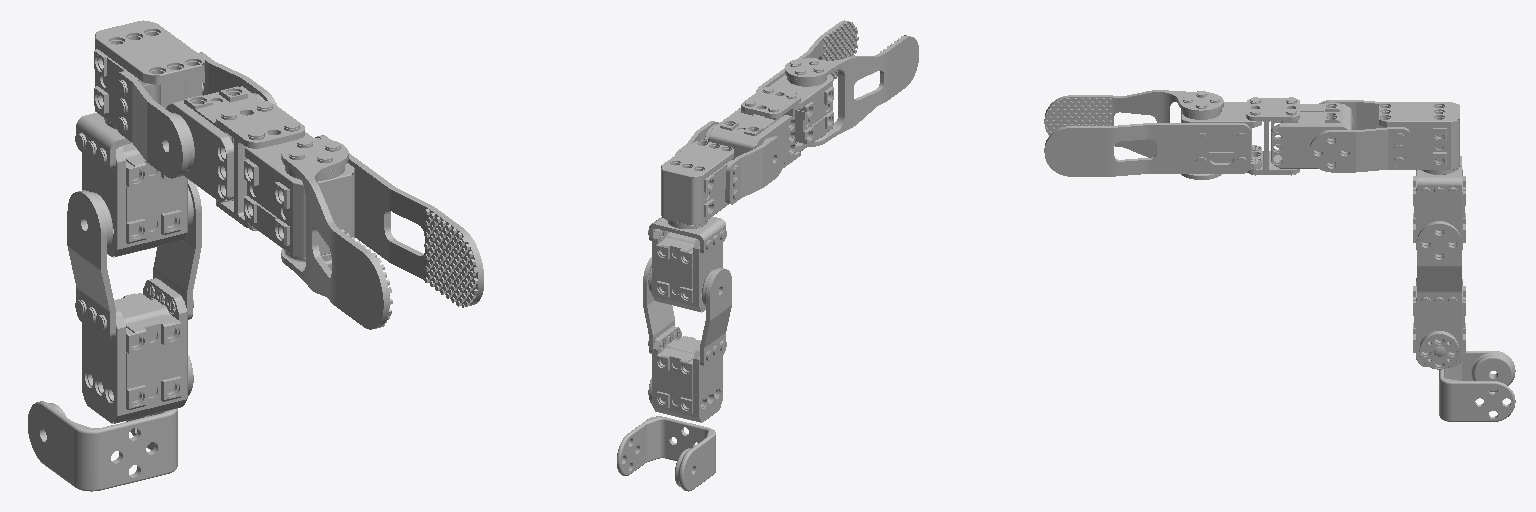
robot.urdf — poppy_ergo_jr:
<?xml version="1.0" ?>
<!-- =================================================================================== -->
<!-- |    This document was autogenerated by xacro from poppy_ergo_jr.urdf.xacro       | -->
<!-- |    EDITING THIS FILE BY HAND IS NOT RECOMMENDED                                 | -->
<!-- =================================================================================== -->
<robot name="poppy_ergo_jr">
  <link name="base_link">
    <visual>
      <origin rpy="0 0 0" xyz="0 0 0"/>
      <geometry>
        <mesh filename="meshes/base.stl"/>
      </geometry>
      <material name="">
        <color rgba="0.752941176470588 0.752941176470588 0.752941176470588 1"/>
      </material>
    </visual>
    <collision>
      <origin rpy="0 0 0" xyz="0 0.038 0.015"/>
      <geometry>
        <cylinder length="0.03" radius="0.08"/>
      </geometry>
    </collision>
  </link>
  <link name="long_U">
    <visual>
      <origin rpy="0 0 0" xyz="0 0 0"/>
      <geometry>
        <mesh filename="meshes/long_U.stl"/>
      </geometry>
      <material name="">
        <color rgba="0.752941176470588 0.752941176470588 0.752941176470588 1"/>
      </material>
    </visual>
    <collision>
      <origin rpy="0 0 0" xyz="0 0 0.01"/>
      <geometry>
        <cylinder length="0.02" radius="0.02"/>
      </geometry>
    </collision>
    <inertial>
      <mass value="10"/>
      <inertia ixx="0.03" ixy="0.0" ixz="0.0" iyy="0.03" iyz="0.0" izz="0.03"/>
    </inertial>
  </link>
  <joint name="m1" type="continuous">
    <origin rpy="0 0 0" xyz="0 0 0.0327993216120967"/>
    <parent link="base_link"/>
    <child link="long_U"/>
    <axis xyz="0 0 1"/>
  </joint>
  <link name="section_1">
    <visual>
      <origin rpy="0 1.5707963267949 0" xyz="0 0 0"/>
      <geometry>
        <mesh filename="meshes/section_1.stl"/>
      </geometry>
      <material name="">
        <color rgba="0.752941176470588 0.752941176470588 0.752941176470588 1"/>
      </material>
    </visual>
    <collision>
      <origin rpy="0 1.5707963267949 0" xyz="0.025 0 0"/>
      <geometry>
        <cylinder length="0.05" radius="0.02"/>
      </geometry>
    </collision>
    <inertial>
      <mass value="0.1"/>
      <inertia ixx="0.03" ixy="0.0" ixz="0.0" iyy="0.03" iyz="0.0" izz="0.03"/>
    </inertial>
  </link>
  <joint name="m2" type="continuous">
    <origin rpy="0 -1.5707963267949 0" xyz="0 0 0.0240006783879033"/>
    <parent link="long_U"/>
    <child link="section_1"/>
    <axis xyz="0 0 -1"/>
  </joint>
  <link name="section_2">
    <visual>
      <origin rpy="0 1.5707963267949 0" xyz="0 0 0"/>
      <geometry>
        <mesh filename="meshes/section_2.stl"/>
      </geometry>
      <material name="">
        <color rgba="0.752941176470588 0.752941176470588 0.752941176470588 1"/>
      </material>
    </visual>
    <collision>
      <origin rpy="0 1.5707963267949 0" xyz="0.025 0 0"/>
      <geometry>
        <cylinder length="0.05" radius="0.02"/>
      </geometry>
    </collision>
    <inertial>
      <mass value="0.1"/>
      <inertia ixx="0.03" ixy="0.0" ixz="0.0" iyy="0.03" iyz="0.0" izz="0.03"/>
    </inertial>
  </link>
  <joint name="m3" type="continuous">
    <origin rpy="0 0 0" xyz="0.054 0 0"/>
    <parent link="section_1"/>
    <child link="section_2"/>
    <axis xyz="0 0 -1"/>
  </joint>
  <link name="section_3">
    <visual>
      <origin rpy="0 3.14159268 0" xyz="0 0 0"/>
      <geometry>
        <mesh filename="meshes/section_3.stl"/>
      </geometry>
      <material name="">
        <color rgba="0.752941176470588 0.752941176470588 0.752941176470588 1"/>
      </material>
    </visual>
    <collision>
      <origin rpy="1.5707963267949 0 0" xyz="0 -0.025 0"/>
      <geometry>
        <cylinder length="0.05" radius="0.02"/>
      </geometry>
    </collision>
    <inertial>
      <mass value="0.1"/>
      <inertia ixx="0.03" ixy="0.0" ixz="0.0" iyy="0.03" iyz="0.0" izz="0.03"/>
    </inertial>
  </link>
  <joint name="m4" type="continuous">
    <origin rpy="0 -1.5707963267949 0" xyz="0.045 0 0"/>
    <parent link="section_2"/>
    <child link="section_3"/>
    <axis xyz="0 0 -1"/>
  </joint>
  <link name="section_4">
    <visual>
      <origin rpy="0 -1.5707963267949 0" xyz="0 -0.058 0"/>
      <geometry>
        <!-- This link mesh includes both the wrist and fixed finger-->
        <mesh filename="meshes/section_4.stl"/>
      </geometry>
      <material name="">
        <color rgba="0.752941176470588 0.752941176470588 0.752941176470588 1"/>
      </material>
    </visual>
    <collision>
      <origin rpy="1.5707963267949 0 0" xyz="0 -0.035 0"/>
      <geometry>
        <cylinder length="0.06" radius="0.02"/>
        <box size="0.05 0.02 0.03"/>
      </geometry>
    </collision>
    <inertial>
      <mass value="0.1"/>
      <inertia ixx="0.03" ixy="0.0" ixz="0.0" iyy="0.03" iyz="0.0" izz="0.03"/>
    </inertial>
  </link>
  <joint name="m5" type="continuous">
    <origin rpy="0 -1.5707963267949 0" xyz="0 -0.048 0"/>
    <parent link="section_3"/>
    <child link="section_4"/>
    <axis xyz="0 0 1"/>
  </joint>
  <link name="fixed_tip">
    <collision>
      <origin rpy="-1.5707963267949 0 0" xyz="-0.00 -0.015 0"/>
      <geometry>
        <box size="0.020 0.025 0.0005"/>
      </geometry>
    </collision>
  </link>
  <joint name="t7f" type="fixed">
    <origin rpy="-1.5707963267949 0 0" xyz="0 -0.11 0"/>
    <parent link="section_4"/>
    <child link="fixed_tip"/>
  </joint>
  <link name="section_5">
    <visual>
      <origin rpy="0 0 0" xyz="0 0 0"/>
      <geometry>
        <!-- This mesh is the movable finger -->
        <mesh filename="meshes/gripper.stl"/>
      </geometry>
      <material name="">
        <color rgba="0.752941176470588 0.752941176470588 0.752941176470588 1"/>
      </material>
    </visual>
    <inertial>
      <mass value="0.1"/>
      <inertia ixx="0.03" ixy="0.0" ixz="0.0" iyy="0.03" iyz="0.0" izz="0.03"/>
    </inertial>
  </link>
  <joint name="m6" type="continuous">
    <origin rpy="0 -1.5707963267949 0" xyz="0 -0.058 0"/>
    <axis xyz="0 0 -1"/>
    <parent link="section_4"/>
    <child link="section_5"/>
  </joint>
  
  <link name="moving_tip">
    <collision>
      <origin rpy="0 0 0" xyz="-0.015 -0.05 0"/>
      <geometry>
        <box size="0.0005 0.025 0.02"/>
      </geometry>
    </collision>
  </link>  
  <joint name="t7m" type="fixed">
    <origin rpy="0 0 0" xyz="0 0 0"/>
    <parent link="section_5"/>
    <child link="moving_tip"/>
  </joint>

  <transmission name="trans_m1">
    <type>transmission_interface/SimpleTransmission</type>
    <joint name="m1">
      <hardwareInterface>hardware_interface/EffortJointInterface</hardwareInterface>
    </joint>
    <actuator name="m1_motor">
      <hardwareInterface>hardware_interface/EffortJointInterface</hardwareInterface>
      <mechanicalReduction>1</mechanicalReduction>
    </actuator>
  </transmission>
  <transmission name="trans_m2">
    <type>transmission_interface/SimpleTransmission</type>
    <joint name="m2">
      <hardwareInterface>hardware_interface/EffortJointInterface</hardwareInterface>
    </joint>
    <actuator name="m2_motor">
      <hardwareInterface>hardware_interface/EffortJointInterface</hardwareInterface>
      <mechanicalReduction>1</mechanicalReduction>
    </actuator>
  </transmission>
  <transmission name="trans_m3">
    <type>transmission_interface/SimpleTransmission</type>
    <joint name="m3">
      <hardwareInterface>hardware_interface/EffortJointInterface</hardwareInterface>
    </joint>
    <actuator name="m3_motor">
      <hardwareInterface>hardware_interface/EffortJointInterface</hardwareInterface>
      <mechanicalReduction>1</mechanicalReduction>
    </actuator>
  </transmission>
  <transmission name="trans_m4">
    <type>transmission_interface/SimpleTransmission</type>
    <joint name="m4">
      <hardwareInterface>hardware_interface/EffortJointInterface</hardwareInterface>
    </joint>
    <actuator name="m4_motor">
      <hardwareInterface>hardware_interface/EffortJointInterface</hardwareInterface>
      <mechanicalReduction>1</mechanicalReduction>
    </actuator>
  </transmission>
  <transmission name="trans_m5">
    <type>transmission_interface/SimpleTransmission</type>
    <joint name="m5">
      <hardwareInterface>hardware_interface/EffortJointInterface</hardwareInterface>
    </joint>
    <actuator name="m5_motor">
      <hardwareInterface>hardware_interface/EffortJointInterface</hardwareInterface>
      <mechanicalReduction>1</mechanicalReduction>
    </actuator>
  </transmission>
  <transmission name="trans_m6">
    <type>transmission_interface/SimpleTransmission</type>
    <joint name="m6">
      <hardwareInterface>hardware_interface/EffortJointInterface</hardwareInterface>
    </joint>
    <actuator name="m6_motor">
      <hardwareInterface>hardware_interface/EffortJointInterface</hardwareInterface>
      <mechanicalReduction>1</mechanicalReduction>
    </actuator>
  </transmission>
  <gazebo>
    <plugin filename="libgazebo_ros_control.so" name="gazebo_ros_control">
      <robotNamespace>/</robotNamespace>
    </plugin>
  </gazebo>
</robot>

--- Render facts (derived) ---
The picture shows the robot from 3 angles, left to right: view 1: azimuth 30°, elevation 25°; view 2: azimuth 150°, elevation 25°; view 3: azimuth 270°, elevation 25°; orthographic projection.
Model poppy_ergo_jr with 9 links and 8 joints (6 continuous, 2 fixed), rooted at base_link, posed all joints at 0.
Visible links, largest first — view 1: section_4, section_1, section_3, section_2, section_5, long_U; view 2: section_1, section_4, section_3, section_5, section_2, long_U; view 3: section_4, section_3, section_1, section_5, long_U, section_2.
Link boxes in pixels (x1,y1,x2,y2): section_4: (166,86,483,307); section_1: (67,179,201,423); section_3: (94,20,276,178); section_2: (75,113,193,257); section_5: (281,138,392,329); long_U: (28,401,177,491); section_1: (643,257,731,422); section_4: (704,20,858,167); section_3: (661,121,785,228); section_5: (785,35,918,146); section_2: (648,216,726,312); long_U: (617,416,715,491); section_4: (1044,97,1351,176); section_3: (1310,100,1459,174); section_1: (1413,222,1465,369); section_5: (1044,90,1223,179); long_U: (1439,351,1515,421); section_2: (1413,156,1465,257).
Bounding box of the posed robot: 0.0343 × 0.2099 × 0.1514 m (x, y, z).
6 mesh visuals loaded from 7 distinct referenced files (6 binary STL); not drawn: 1 (reference not matched to a file when rendering).